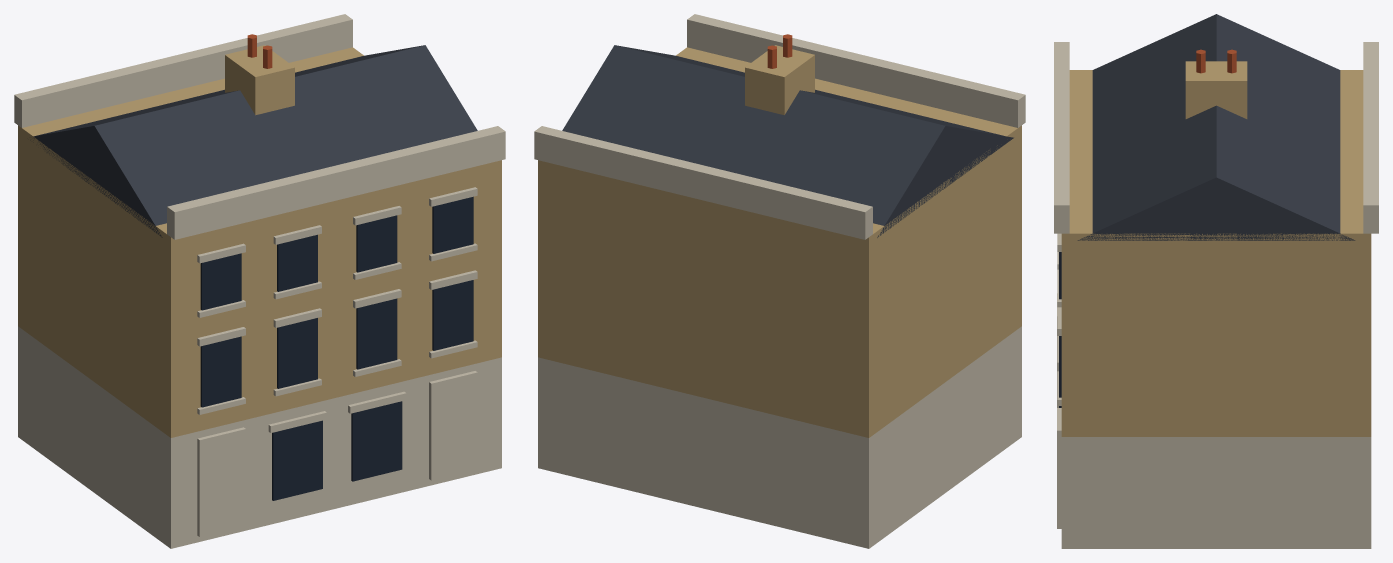
The model's file is building_london_s2_yellowstock_terrace.glb.
3 views of the same model, side by side, from view 1: azimuth 30°, elevation 25°; view 2: azimuth 150°, elevation 25°; view 3: azimuth 270°, elevation 25° (orthographic).
Parts seen in each view (by area): view 1: building_london_s2_yellowstock_terrace; view 2: building_london_s2_yellowstock_terrace; view 3: building_london_s2_yellowstock_terrace.
Part boxes in pixels (bbox=[...]): building_london_s2_yellowstock_terrace: bbox=[14, 14, 505, 548]; building_london_s2_yellowstock_terrace: bbox=[534, 14, 1025, 548]; building_london_s2_yellowstock_terrace: bbox=[1054, 14, 1378, 548].
Bounding box in the file's own units: 10 × 11.85 × 8.4.
Materials: 1 (1 with a texture image).
